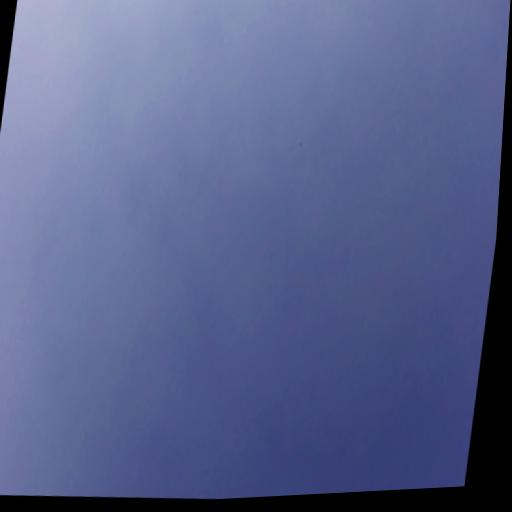drones: (299, 141, 303, 148)
